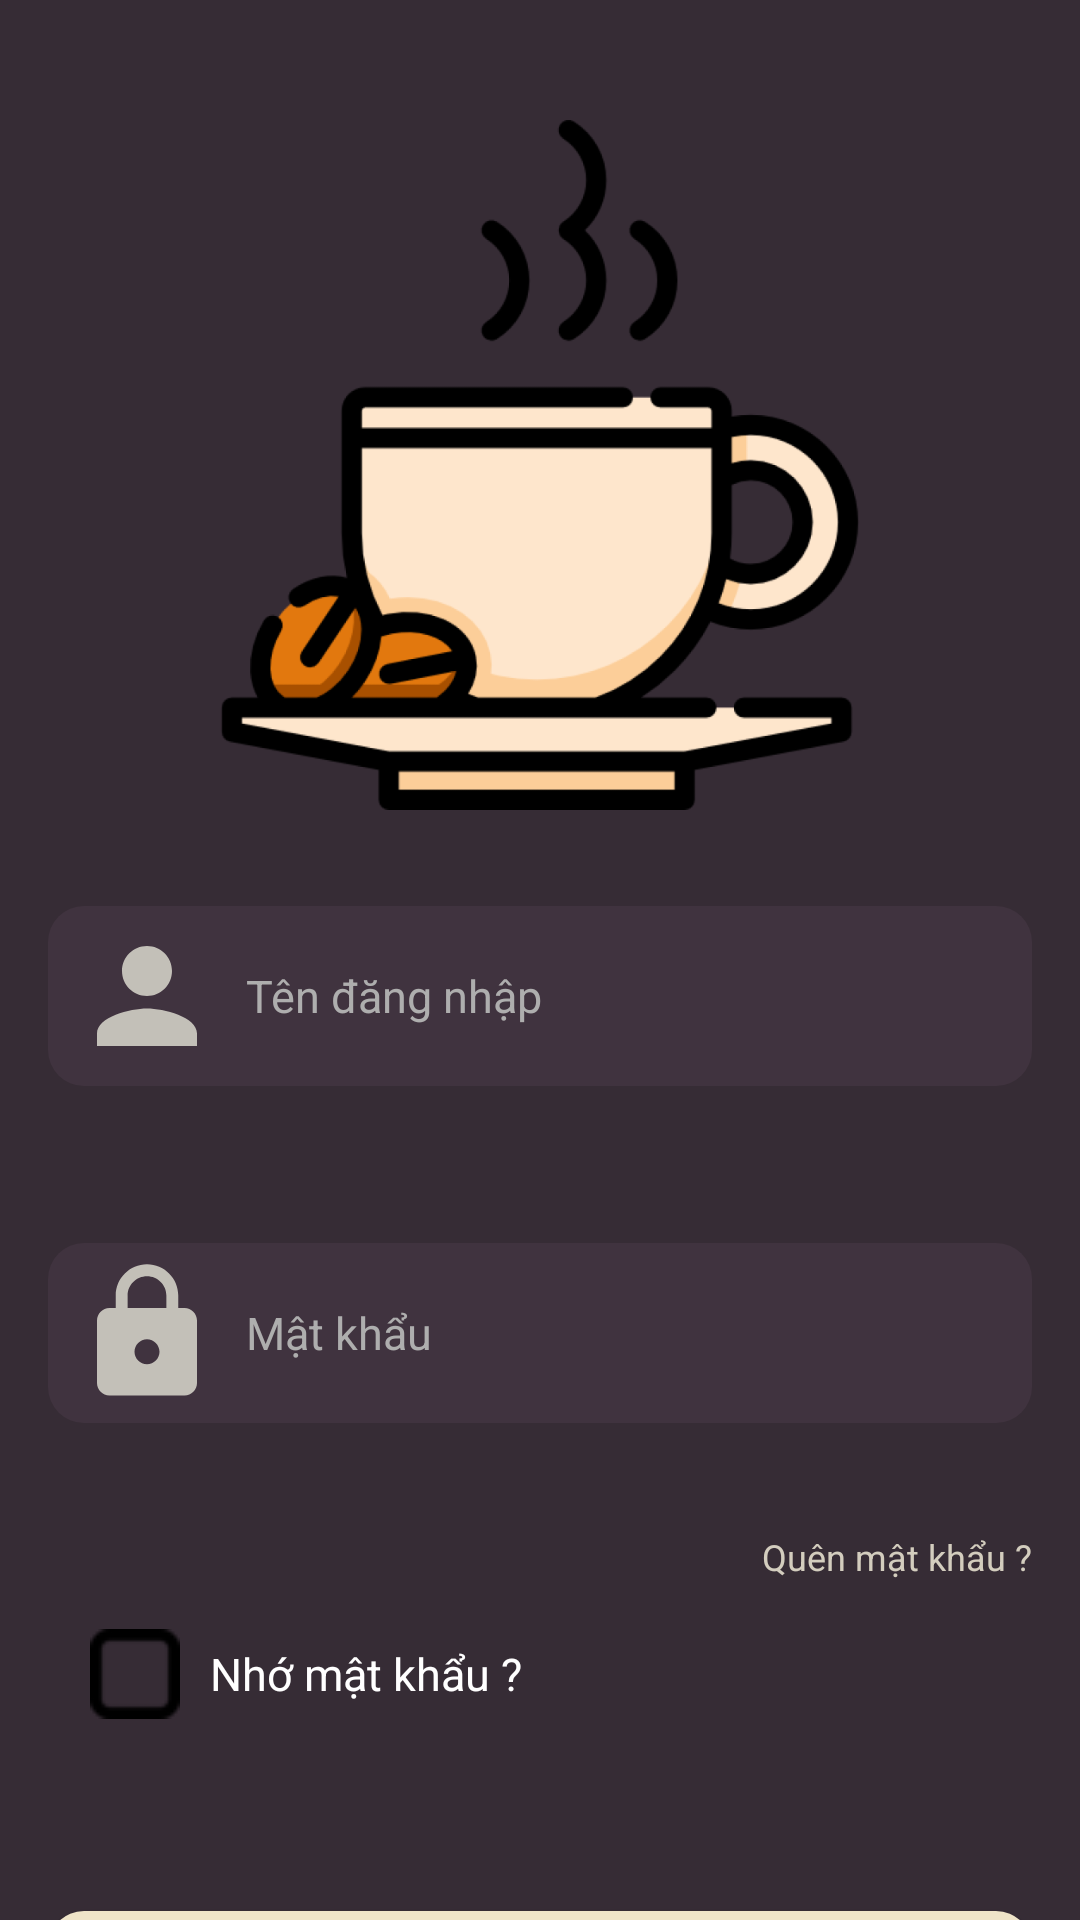

Named icons in this screenshot (1080 × 1920) and their bounding boxes, [x1, y1, x2, y2]:
checkbox custom: [90, 1629, 180, 1719]
